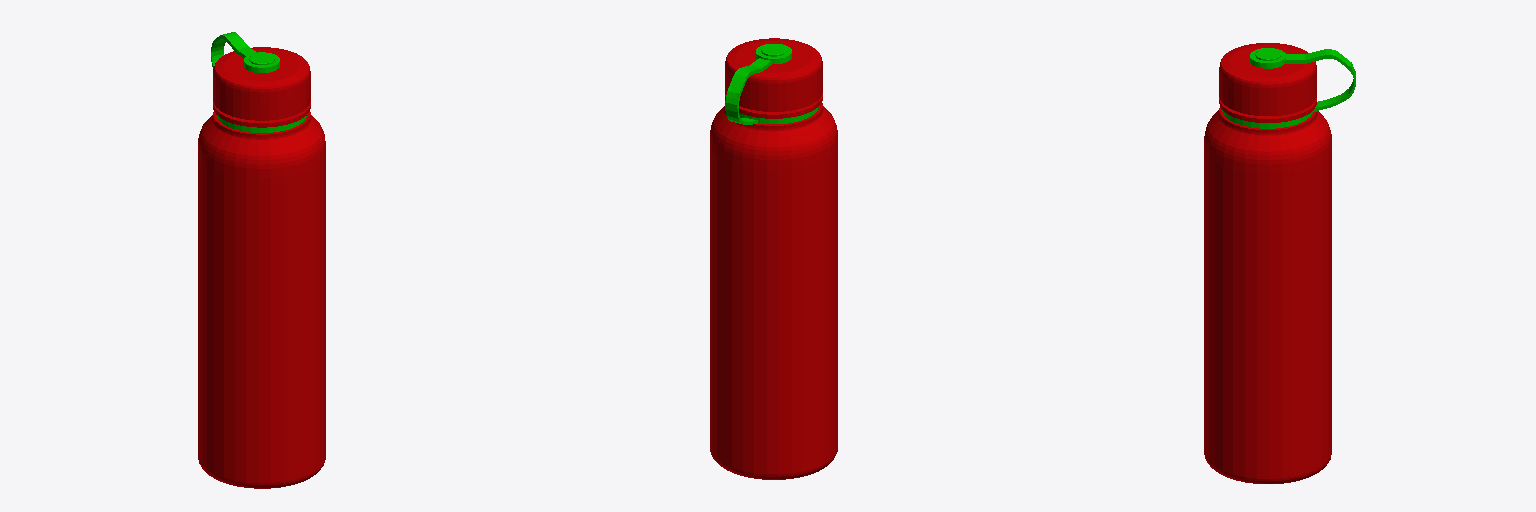
Rendered from Bottle.obj.
3 renders of one model, left to right at view 1: azimuth 30°, elevation 25°; view 2: azimuth 150°, elevation 25°; view 3: azimuth 270°, elevation 25°, orthographic.
Parts seen in each view (by area): view 1: Metal_Bottle_Cylinder; view 2: Metal_Bottle_Cylinder; view 3: Metal_Bottle_Cylinder.
Boxes of the visible parts, box(x1,y1,x2,y2) form: Metal_Bottle_Cylinder: box(198, 32, 325, 488); Metal_Bottle_Cylinder: box(710, 38, 837, 479); Metal_Bottle_Cylinder: box(1204, 43, 1355, 483).
Size of the model in its own units: 4.92 by 17.21 by 5.83.